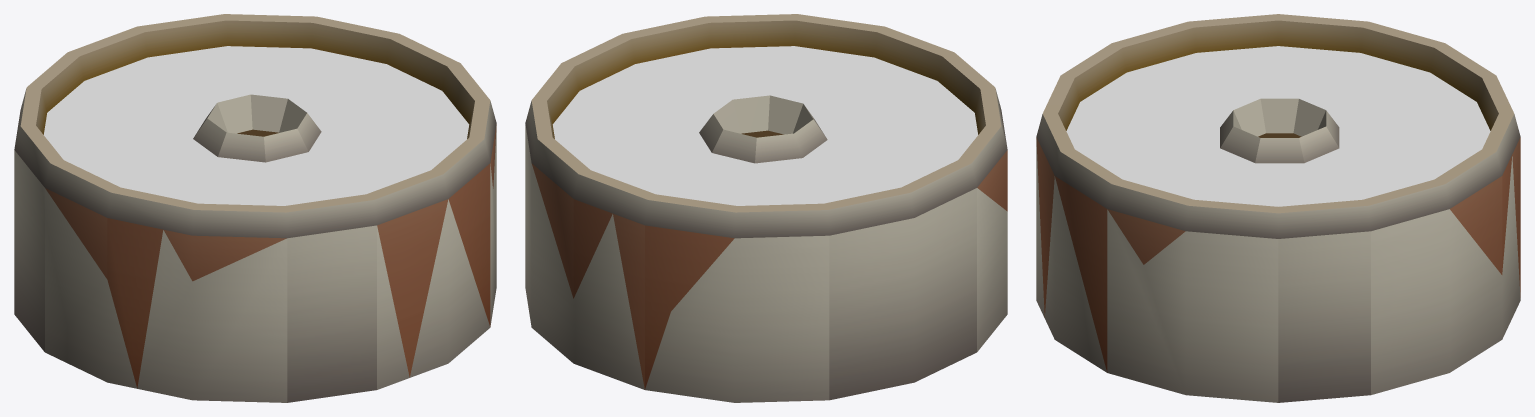
The model's file is SM_WaterTreatment_Part_04.fbx.
3 views of the same model, side by side, from view 1: azimuth 30°, elevation 25°; view 2: azimuth 150°, elevation 25°; view 3: azimuth 270°, elevation 25° (orthographic).
Visible parts, largest first — view 1: SM_WaterTreatment_Part_04; view 2: SM_WaterTreatment_Part_04; view 3: SM_WaterTreatment_Part_04.
Boxes of the visible parts, left/top/right/bottom form: SM_WaterTreatment_Part_04: left=14, top=14, right=496, bottom=402; SM_WaterTreatment_Part_04: left=525, top=14, right=1007, bottom=402; SM_WaterTreatment_Part_04: left=1036, top=14, right=1520, bottom=402.
Bounding box in the file's own units: 1.01 × 0.4317 × 1.01.
